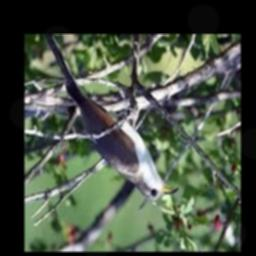Cuckoo: (45, 35, 179, 201)
